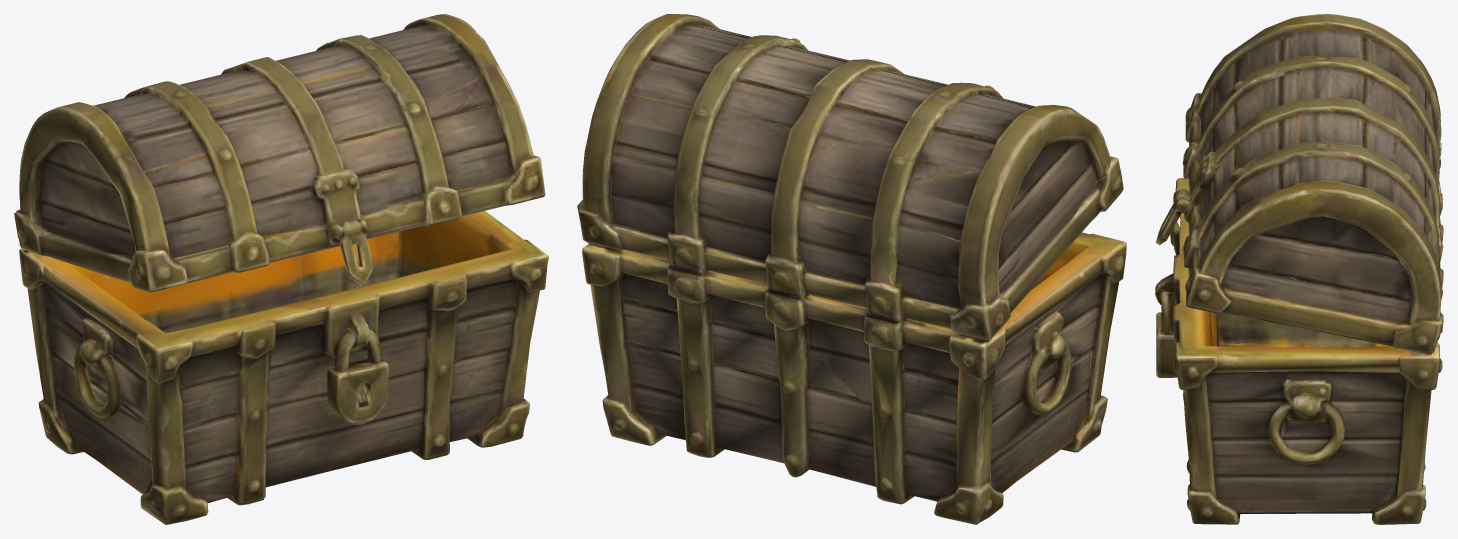
Rendered from decor_treasure_chest.glb.
The picture shows the model from 3 angles, left to right: view 1: azimuth 30°, elevation 25°; view 2: azimuth 150°, elevation 25°; view 3: azimuth 270°, elevation 25°; orthographic projection. The views are drawn at different scales.
Parts seen in each view (by area): view 1: Mesh_0; view 2: Mesh_0; view 3: Mesh_0.
Boxes of the visible parts, x1=… form: Mesh_0: x1=14, y1=14, x2=548, y2=524; Mesh_0: x1=577, y1=14, x2=1126, y2=524; Mesh_0: x1=1155, y1=14, x2=1443, y2=524.
Size of the model in its own units: 1.91 by 1.64 by 1.26.
Materials: 1 (1 with a texture image).
